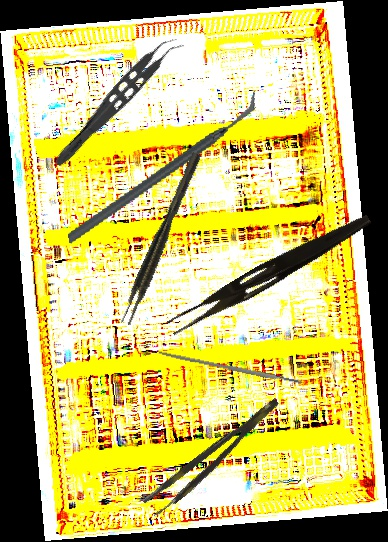Chopper: (46, 90, 279, 246)
Dressing Forceps: (165, 204, 374, 343)
Scalpel Handle: (157, 349, 303, 387)
Tissue Forceps: (51, 28, 186, 178), (141, 396, 289, 519), (117, 151, 207, 327)
